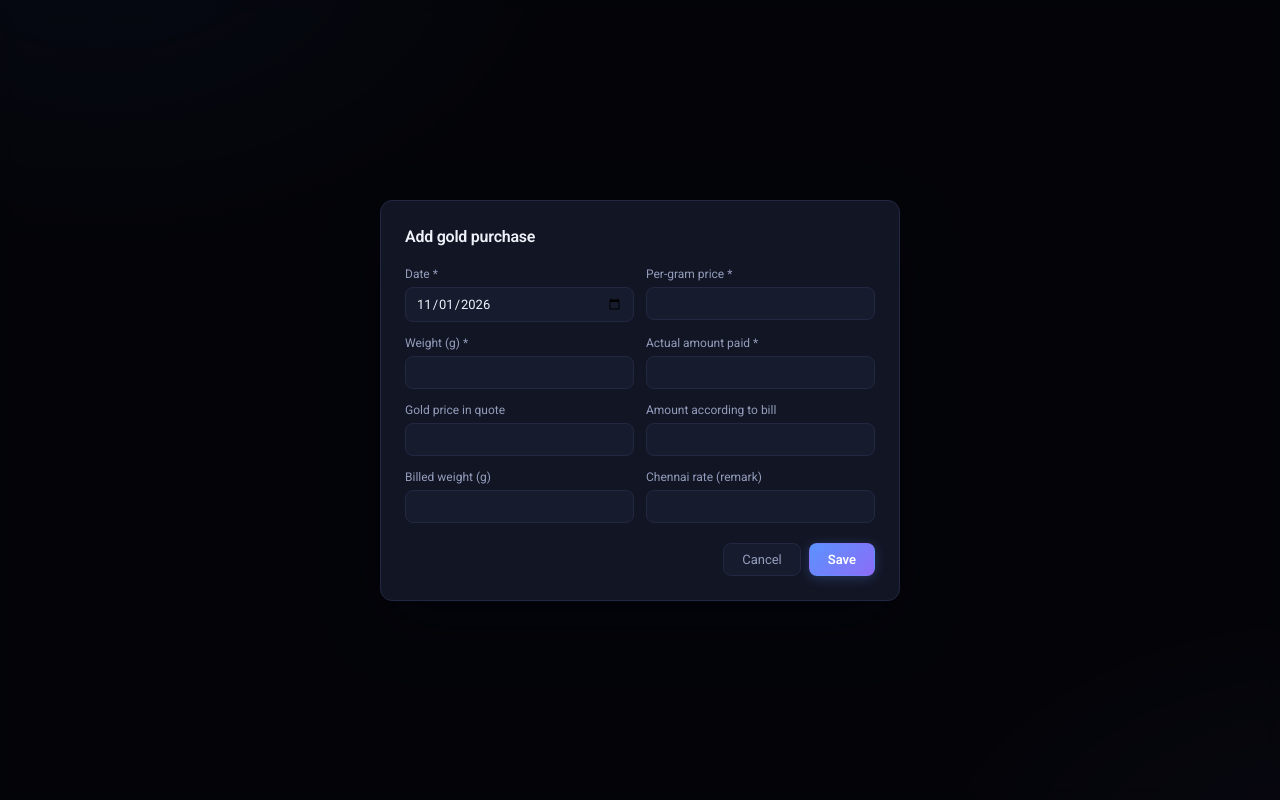
Test case: GoldTxnModal › blocks save and shows the rule when a required field is invalid
Type "2026-07-01" into the date field labelled "Date *" at (520, 304), box [405,286,634,322]
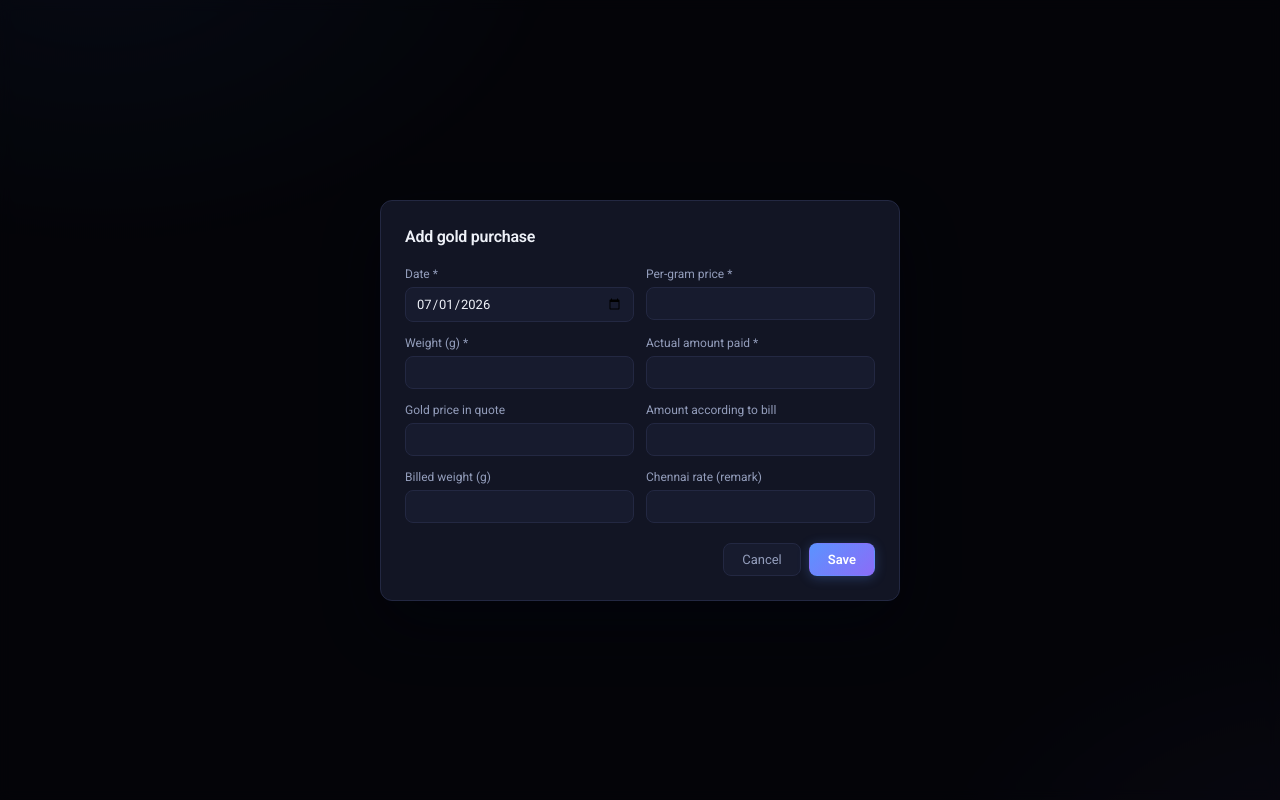
Type "0" into the field labelled "Per-gram price *" at (760, 303), box [646,286,875,320]
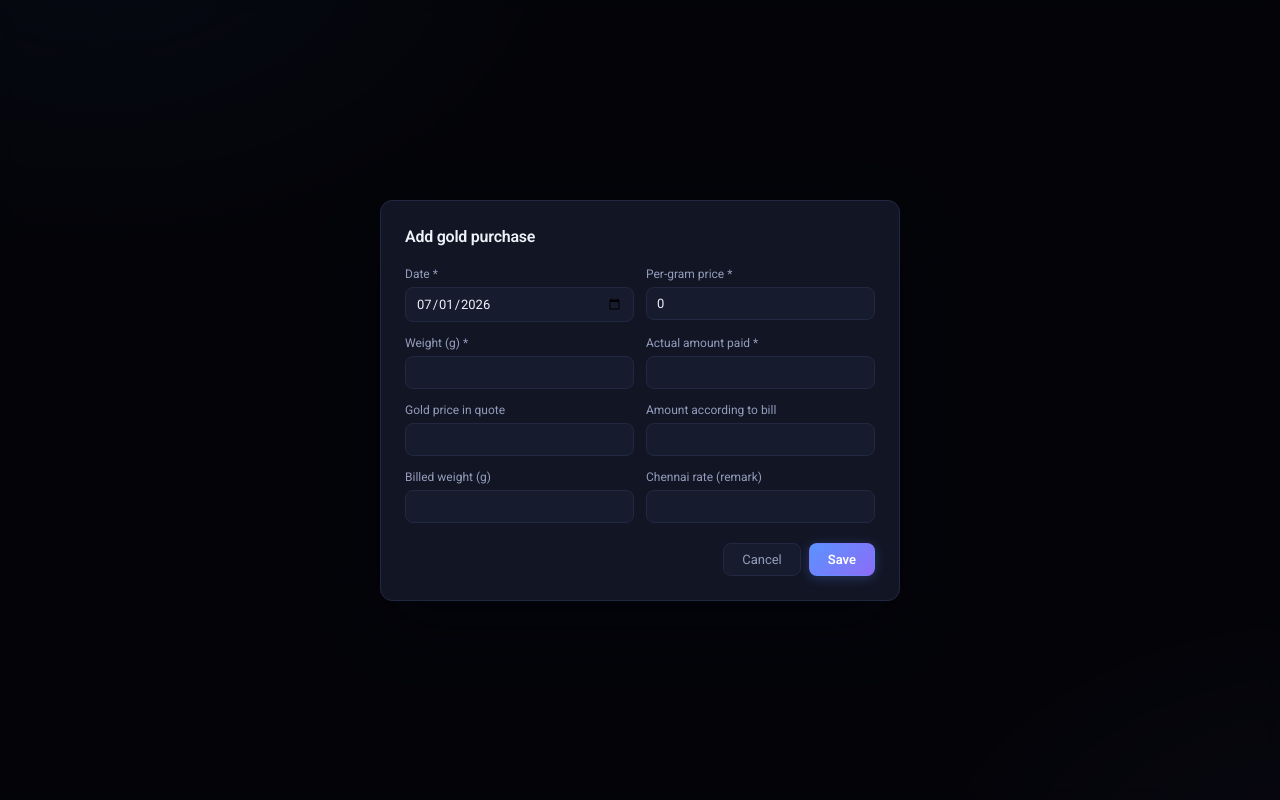
Type "8" into the field labelled "Weight (g) *" at (520, 372), box [405,356,634,388]
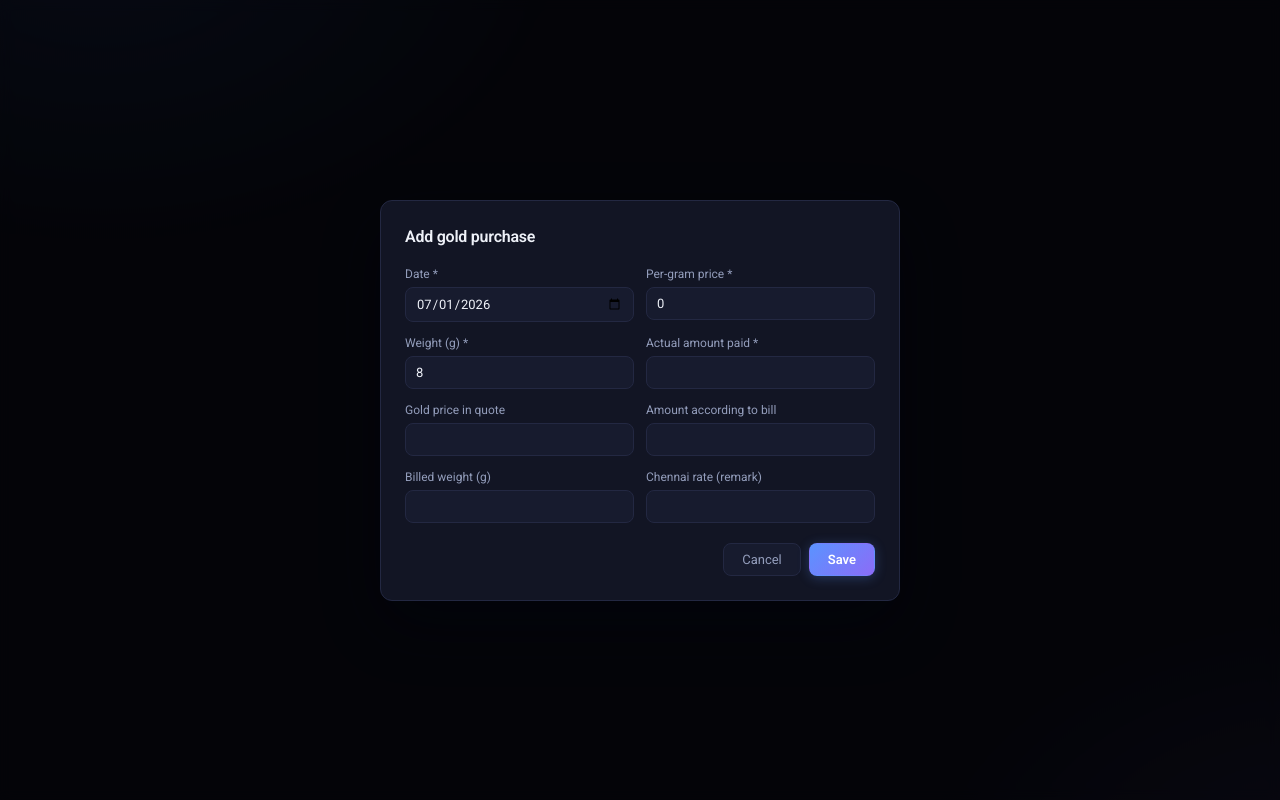
Type "100" into the field labelled "Actual amount paid *" at (760, 372), box [646,356,875,388]
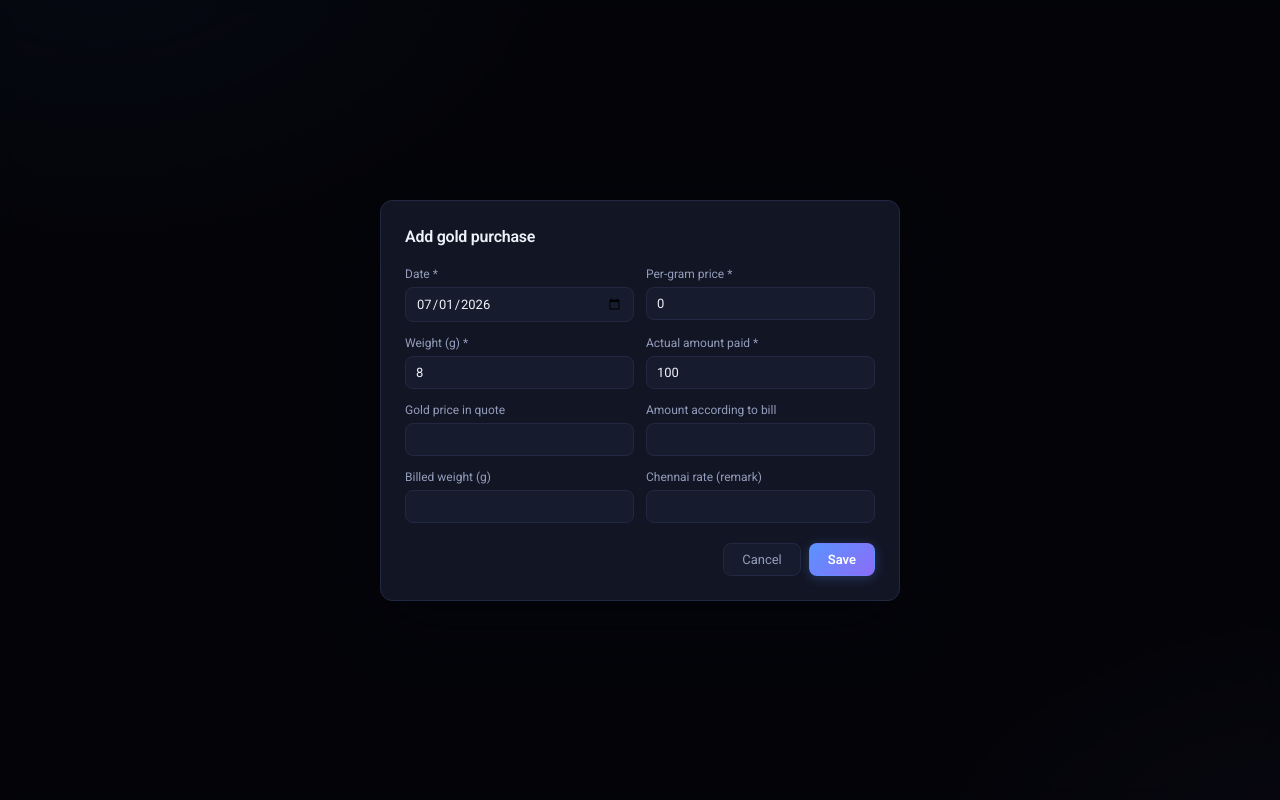
Click the button "Save" at (842, 559), box [809,542,875,576]
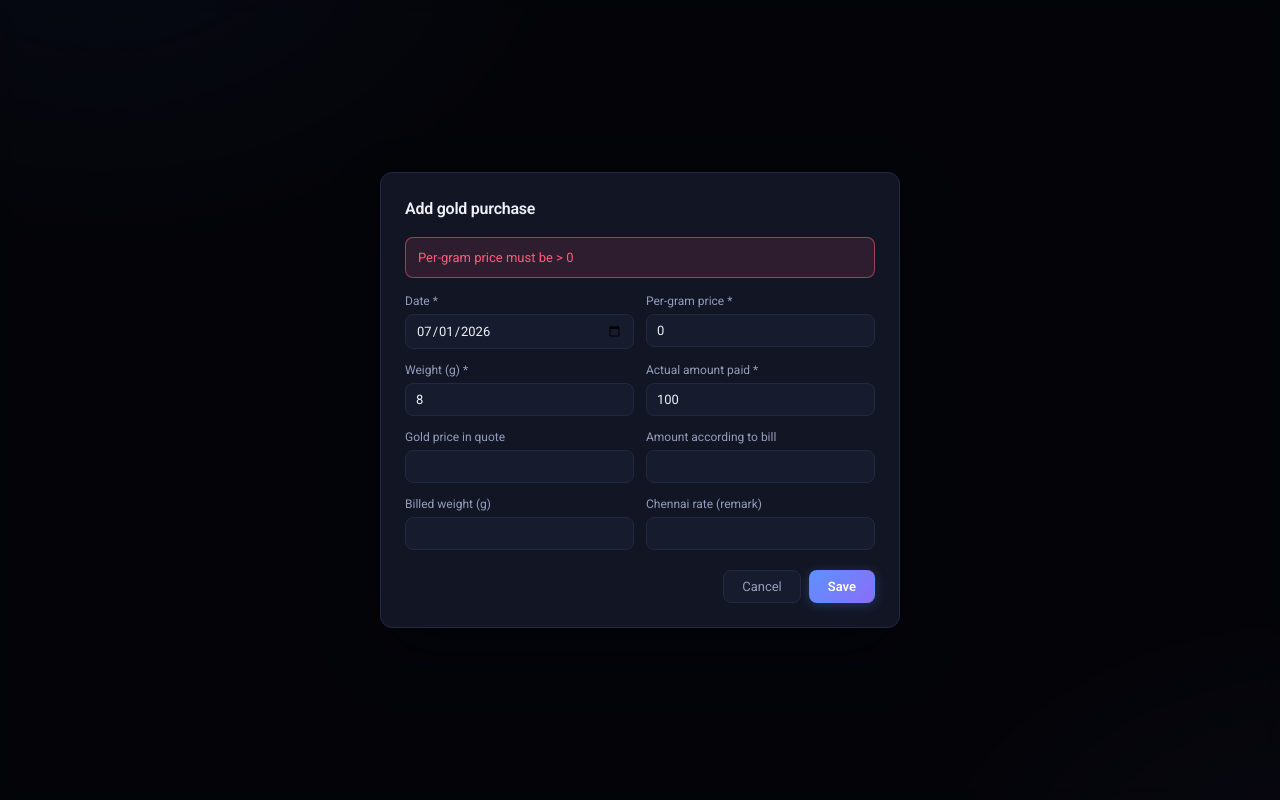
expect the text "Per-gram price must be > 0" is shown: met, box [405,237,875,278]
